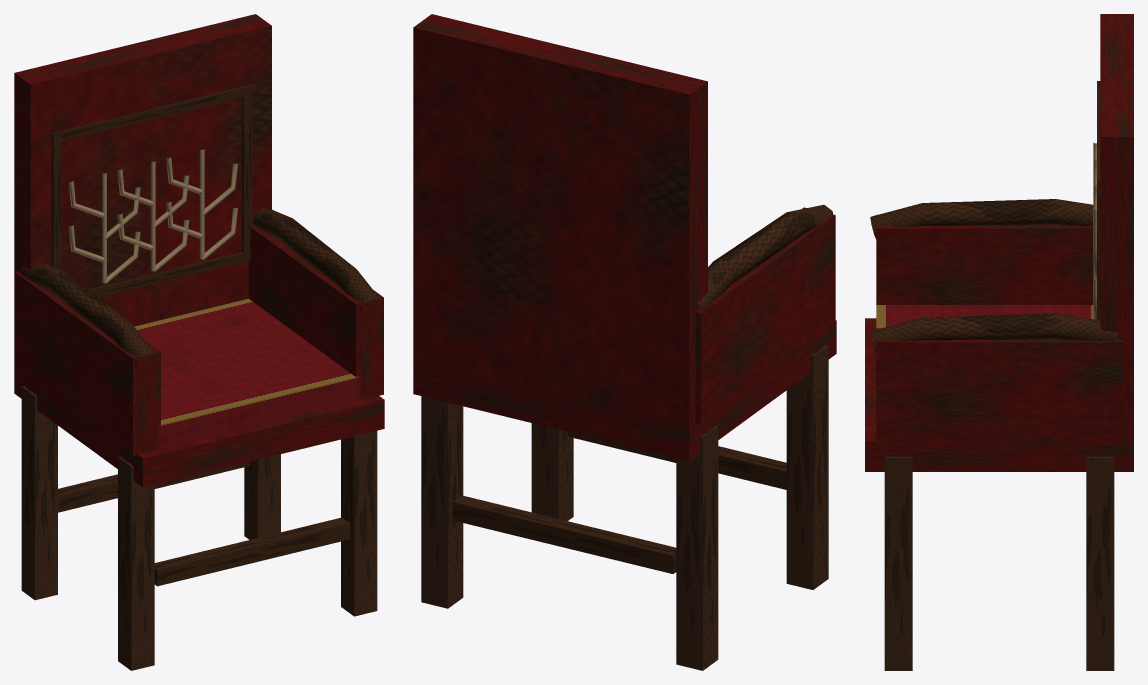
Rendered from armchair.glb.
The picture shows the model from 3 angles, left to right: view 1: azimuth 30°, elevation 25°; view 2: azimuth 150°, elevation 25°; view 3: azimuth 270°, elevation 25°; orthographic projection. The views are drawn at different scales.
Visible parts, largest first — view 1: Back, Art_WarmWood, Cushion, Arm_-24, Seat, Arm_24, LegR_-24_18, Leg_-24_18, LegR_24_18, Art_FadedThread, Leg_24_18; view 2: Back, Arm_-24, Seat, Art_WarmWood, Leg_-24_18, LegR_-24_18, Leg_24_18, LegR_24_18; view 3: Arm_24, Arm_-24, Back, Art_WarmWood, Seat, Leg_24_18, LegR_24_18, Cushion, Art_FadedThread.
Boxes of the visible parts, x1,y1,x2,y2 form: Back: (14,14,271,364); Art_WarmWood: (19,84,380,586); Cushion: (134,298,360,449); Arm_-24: (15,271,160,455); Seat: (14,364,384,487); Arm_24: (248,224,383,399); LegR_-24_18: (118,456,154,670); Leg_-24_18: (21,386,57,600); LegR_24_18: (341,431,377,616); Art_FadedThread: (68,149,238,284); Leg_24_18: (244,454,280,539); Back: (413,14,707,427); Arm_-24: (695,207,835,424); Seat: (413,320,836,461); Art_WarmWood: (453,204,833,573); Leg_-24_18: (676,426,718,670); LegR_-24_18: (786,345,828,589); Leg_24_18: (421,396,463,608); LegR_24_18: (531,423,573,520); Arm_24: (876,328,1122,443); Arm_-24: (876,214,1093,304); Back: (1100,14,1133,441); Art_WarmWood: (870,81,1118,353); Seat: (865,318,1133,471); Leg_24_18: (1086,456,1114,670); LegR_24_18: (884,456,912,670); Cushion: (876,305,1093,328); Art_FadedThread: (1093,142,1096,319).
Size of what is drawn, in the model's own units: 0.54 by 1.05 by 0.48.
Materials: 6 (5 with a texture image).
